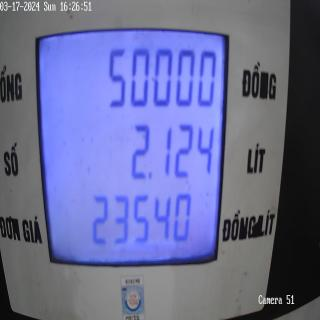screen: (32, 11, 234, 275)
